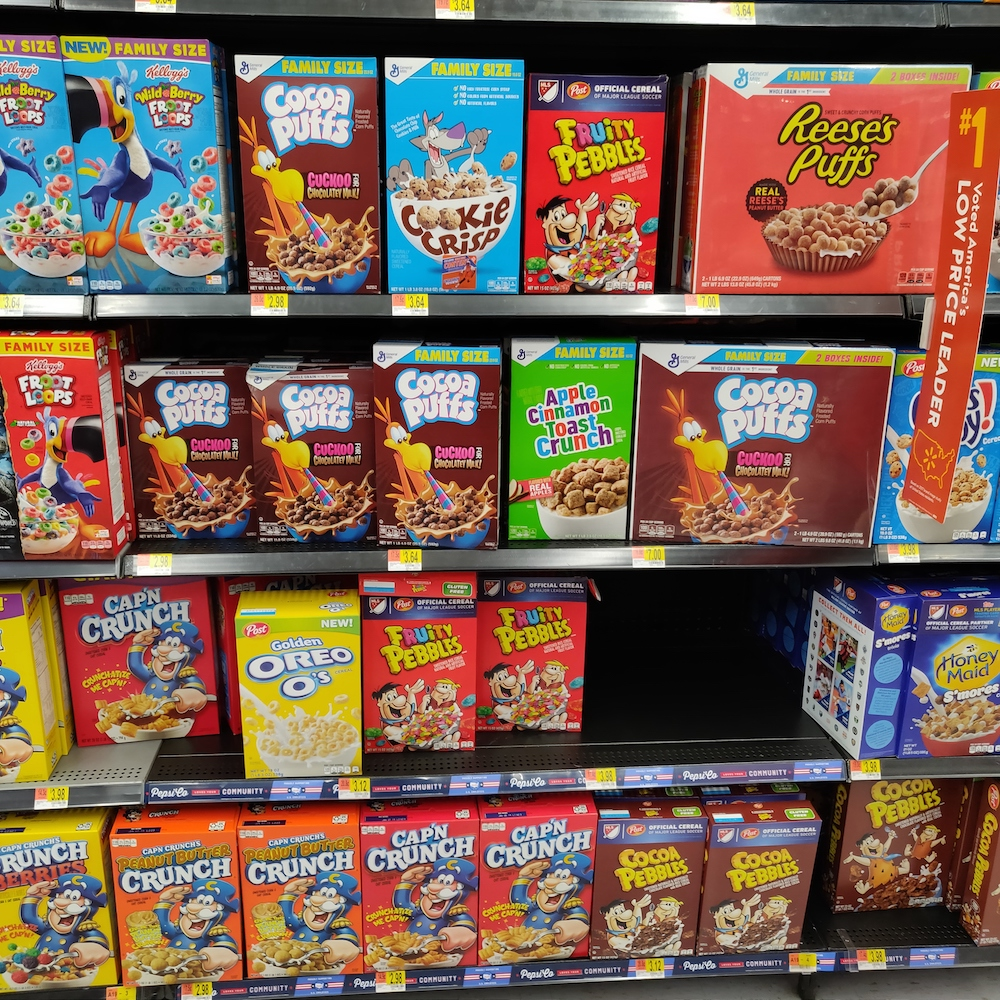Cocoa Pebbles-555517893: (708, 804, 815, 957), (595, 817, 696, 960)
Honey Maid Graham -563424385: (903, 584, 1000, 758)
Oreo Golden-568301011: (241, 605, 365, 778)
